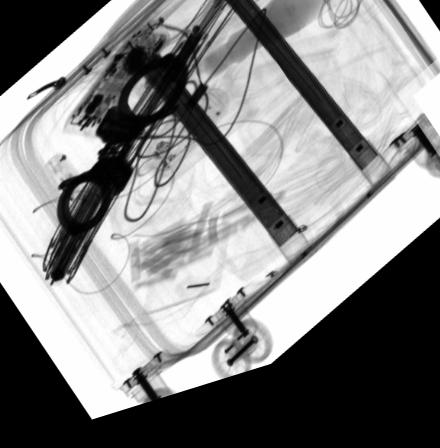HandCuffs: (57, 60, 188, 237)
